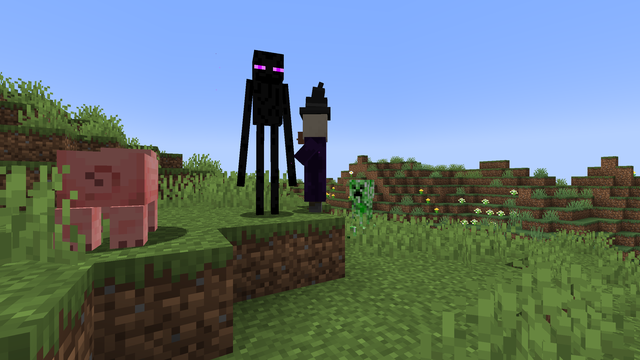cochons: (41, 146, 166, 252)
creepers: (346, 176, 377, 242)
endermens: (246, 41, 288, 216)
sorcieres: (295, 107, 335, 212)
